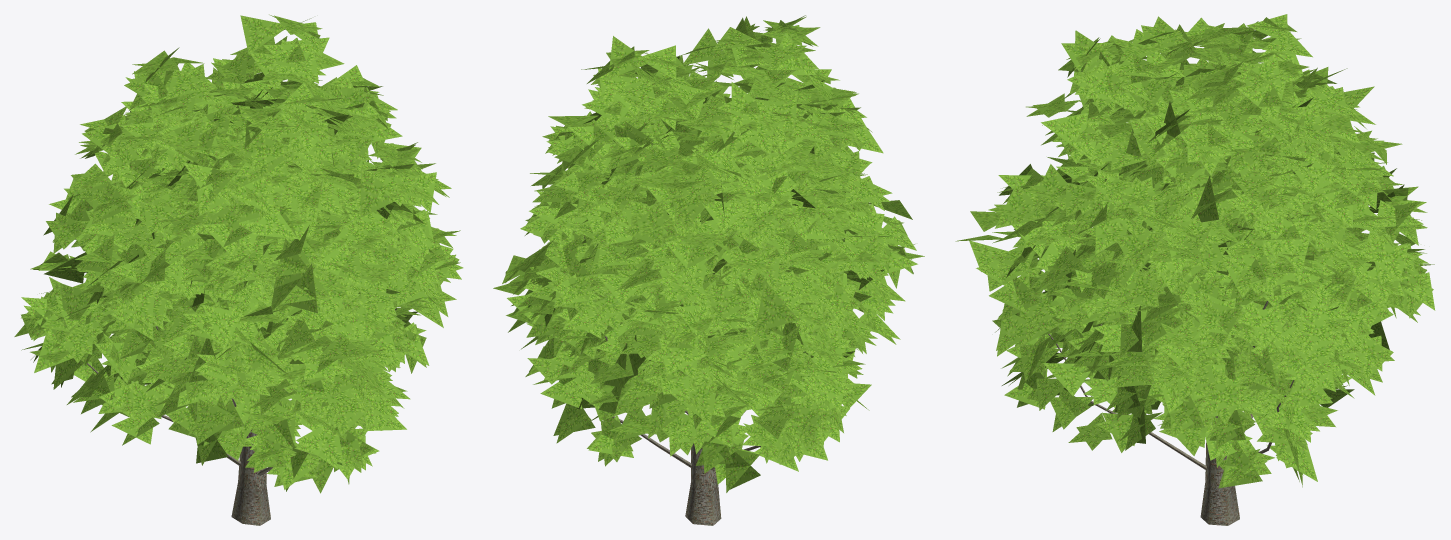
The model's file is Zelkova_Serrata_Spring_Adult.glb.
3 views of the same model, side by side, from view 1: azimuth 30°, elevation 25°; view 2: azimuth 150°, elevation 25°; view 3: azimuth 270°, elevation 25° (orthographic). The views are drawn at different scales.
Visible parts, largest first — view 1: Zelkova_Serrata_Spring_Adult__LOD3; view 2: Zelkova_Serrata_Spring_Adult__LOD3; view 3: Zelkova_Serrata_Spring_Adult__LOD3.
Boxes of the visible parts, <box> form: Zelkova_Serrata_Spring_Adult__LOD3: <box>14,14,463,525</box>; Zelkova_Serrata_Spring_Adult__LOD3: <box>493,15,924,525</box>; Zelkova_Serrata_Spring_Adult__LOD3: <box>955,14,1435,525</box>.
Size of the model in its own units: 17.29 by 20.36 by 18.4.
2 materials, 2 textured.
